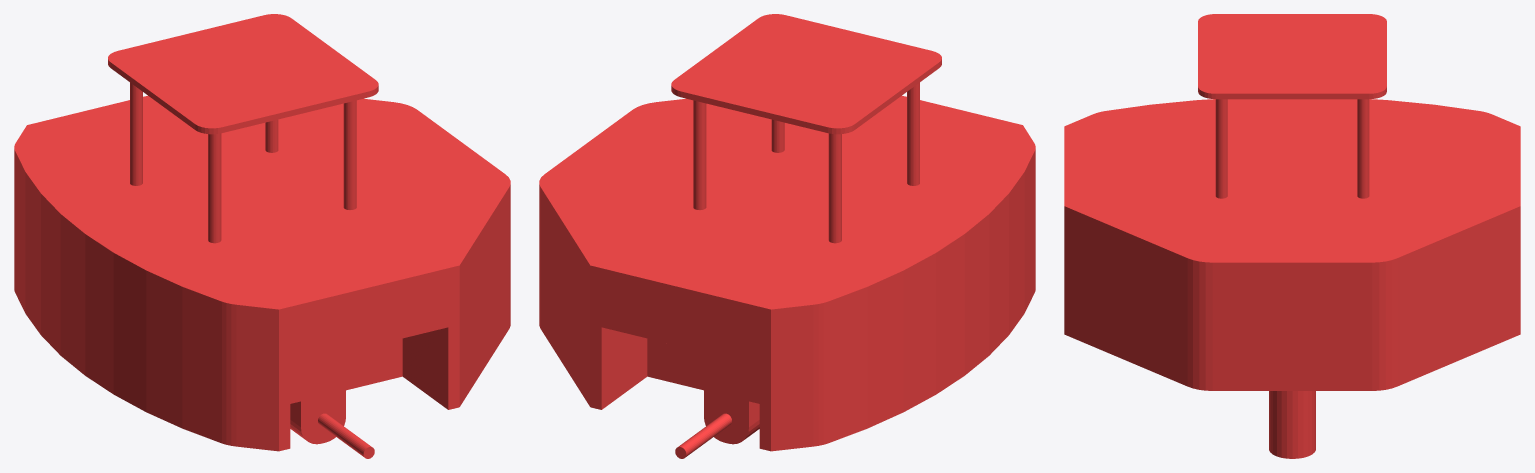
Rendered from new_chassis.dae.
The picture shows the model from 3 angles, left to right: view 1: azimuth 30°, elevation 25°; view 2: azimuth 150°, elevation 25°; view 3: azimuth 270°, elevation 25°; orthographic projection. The views are drawn at different scales.
Parts seen in each view (by area): view 1: node0; view 2: node0; view 3: node0.
Part boxes in pixels (left/top/right/bottom): node0: left=14, top=14, right=510, bottom=458; node0: left=539, top=14, right=1035, bottom=458; node0: left=1064, top=14, right=1520, bottom=458.
Size of the model in its own units: 0.3331 by 0.3863 by 0.29.
